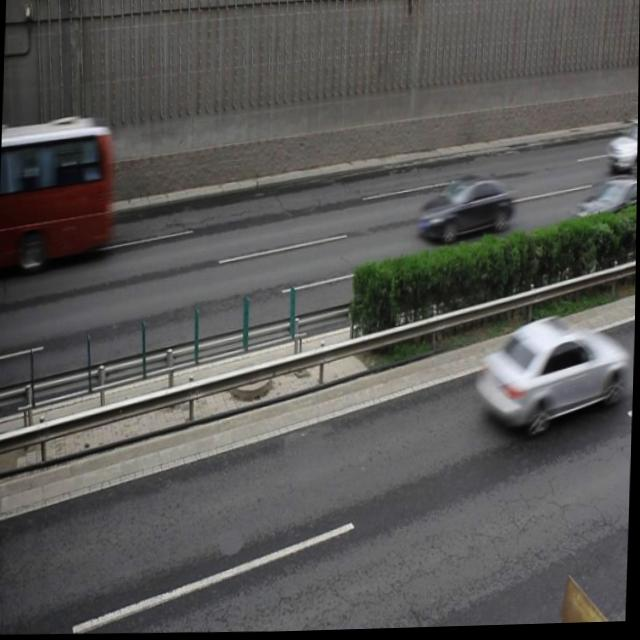car: (474, 318, 627, 440), (420, 177, 513, 245), (567, 178, 638, 241), (605, 120, 638, 179)
van: (0, 111, 114, 272)
